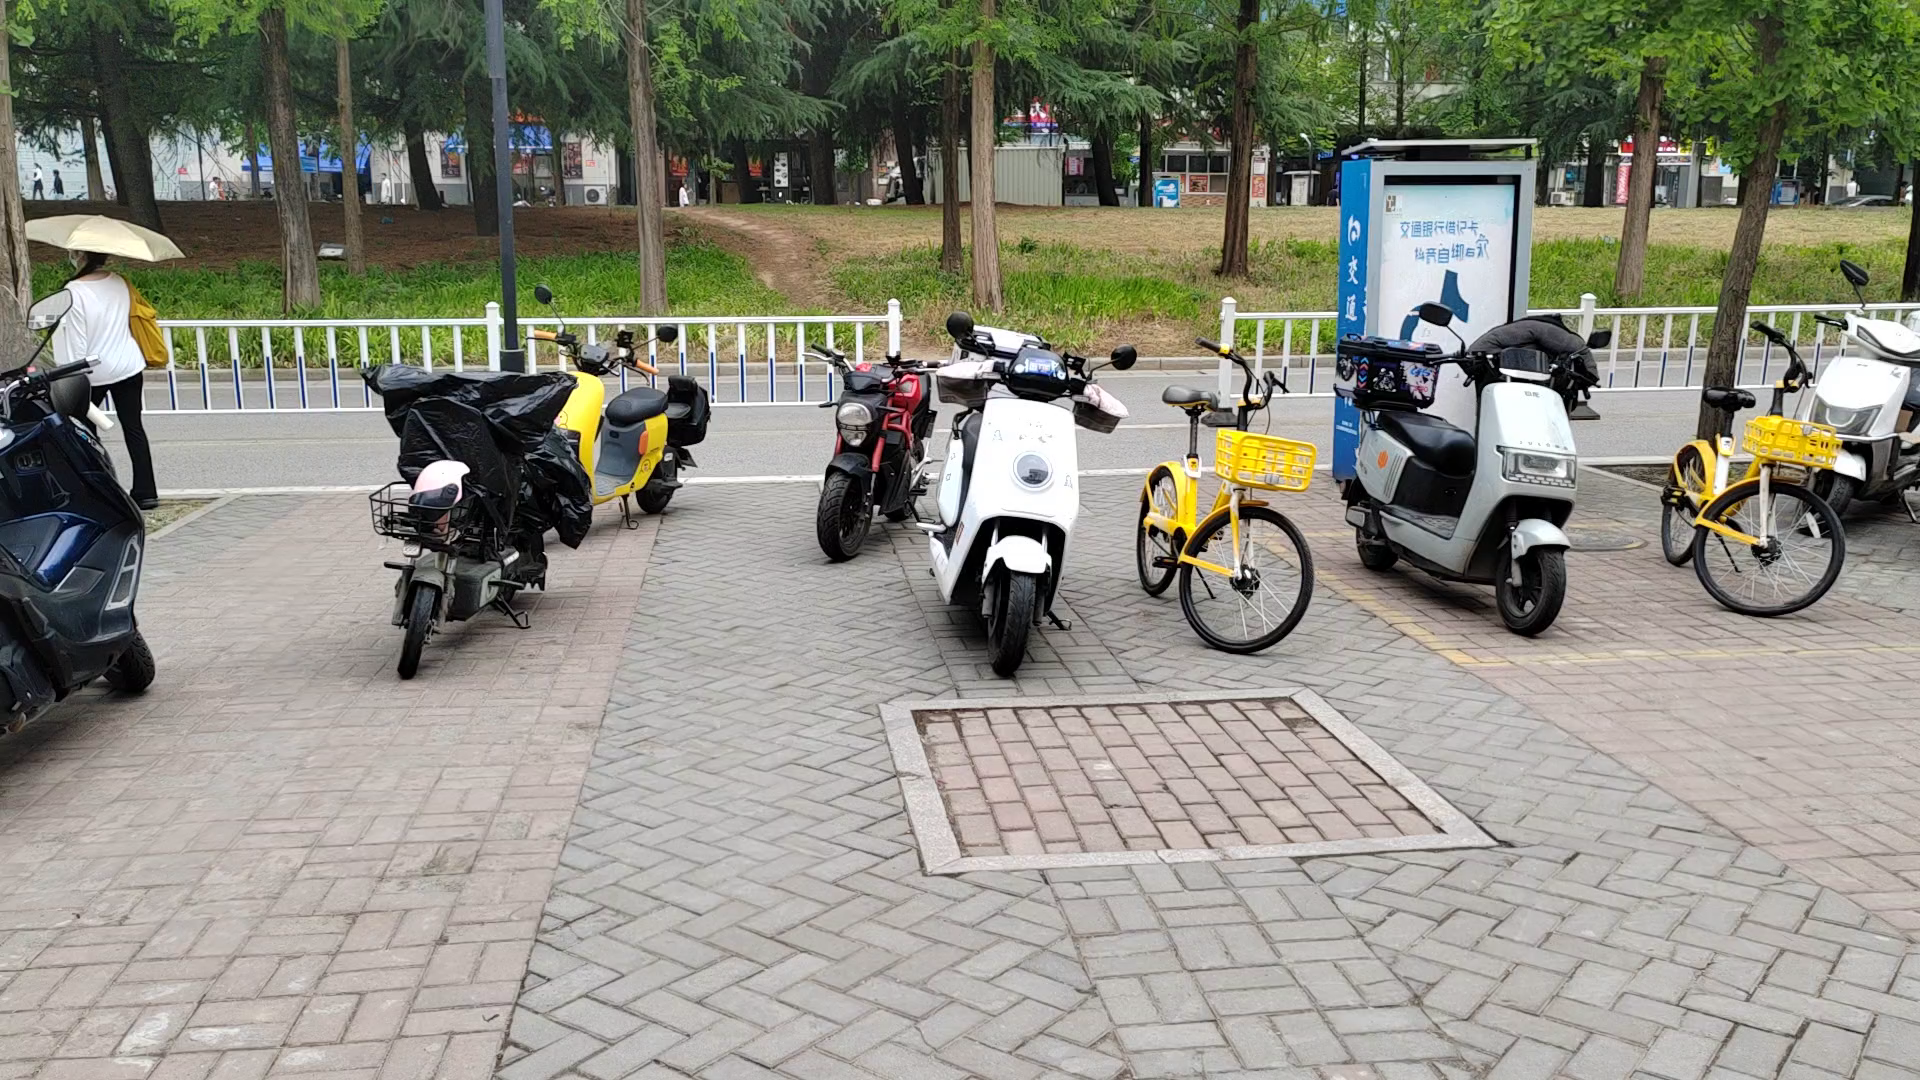others: (1358, 295, 1593, 651), (368, 349, 603, 646), (935, 316, 1105, 694), (3, 363, 167, 749), (533, 281, 711, 531), (1785, 256, 1920, 527), (799, 334, 934, 553)
shared_bike_meituan: (1138, 322, 1320, 683), (1643, 318, 1824, 662)
